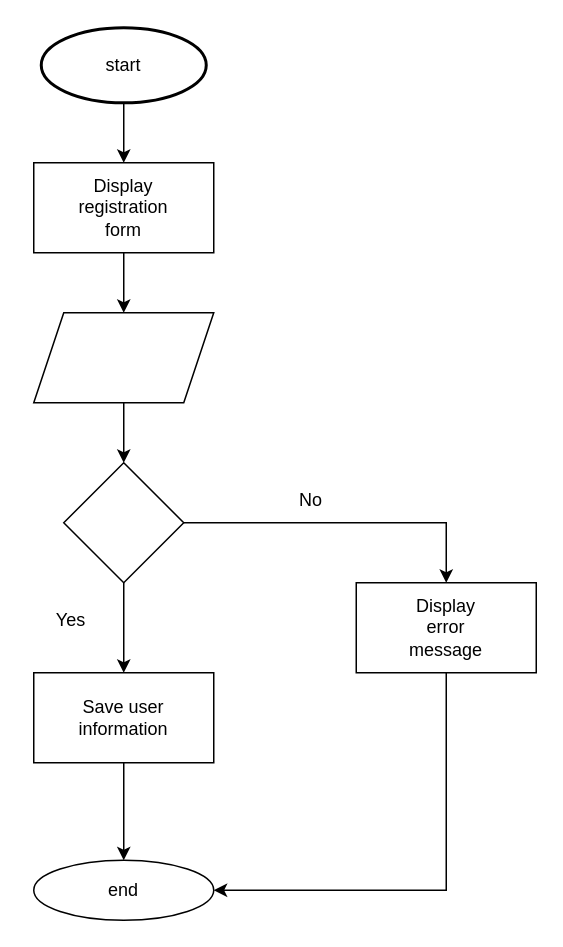
The diagram is 563 pixels wide and 947 high, and some of its shapes have lost their labels. The shapes that lost their labels are listed below. From the top down, each one's centre as x and y in pixels, then its label:
At pixel 123 357: "User keys in the information".
At pixel 123 522: "is the information valid?".
